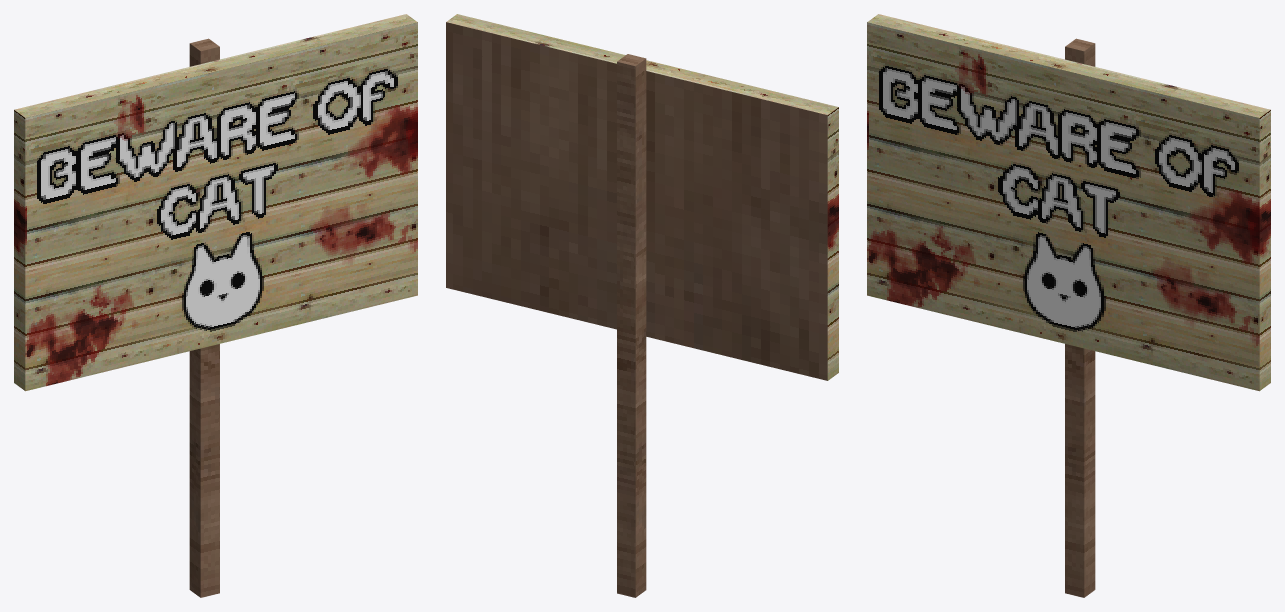
File: BewareOfCatSign.glb
The picture shows the model from 3 angles, left to right: view 1: azimuth 30°, elevation 25°; view 2: azimuth 150°, elevation 25°; view 3: azimuth 330°, elevation 25°; orthographic projection. The views are drawn at different scales.
Visible parts, largest first — view 1: BewareOfCatSign; view 2: BewareOfCatSign; view 3: BewareOfCatSign.
Part boxes in pixels (bbox=[...]): BewareOfCatSign: bbox=[14, 14, 417, 597]; BewareOfCatSign: bbox=[446, 14, 838, 597]; BewareOfCatSign: bbox=[867, 14, 1270, 597].
Size of the model in its own units: 0.9341 by 1.24 by 0.0923.
Materials: 1 (1 with a texture image).
